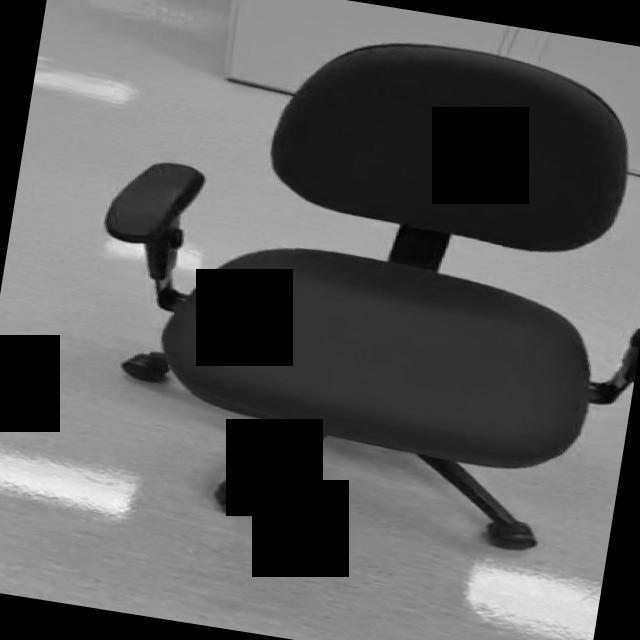chair: (61, 0, 640, 572)
